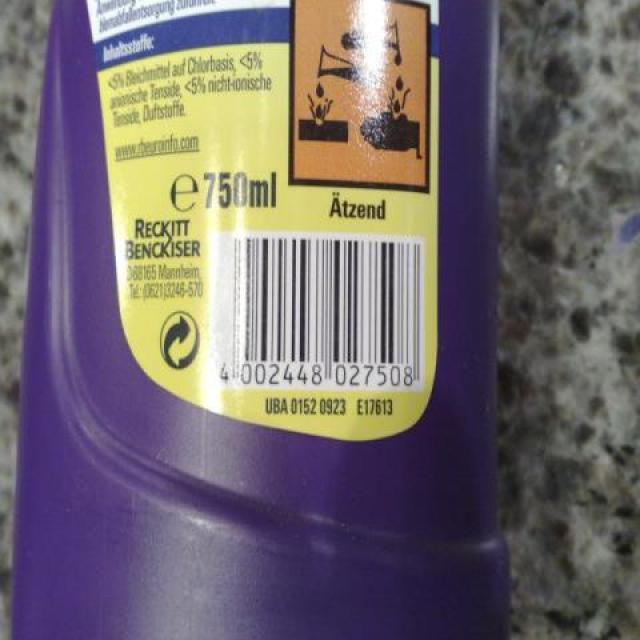Barcode: (205, 224, 431, 397)
